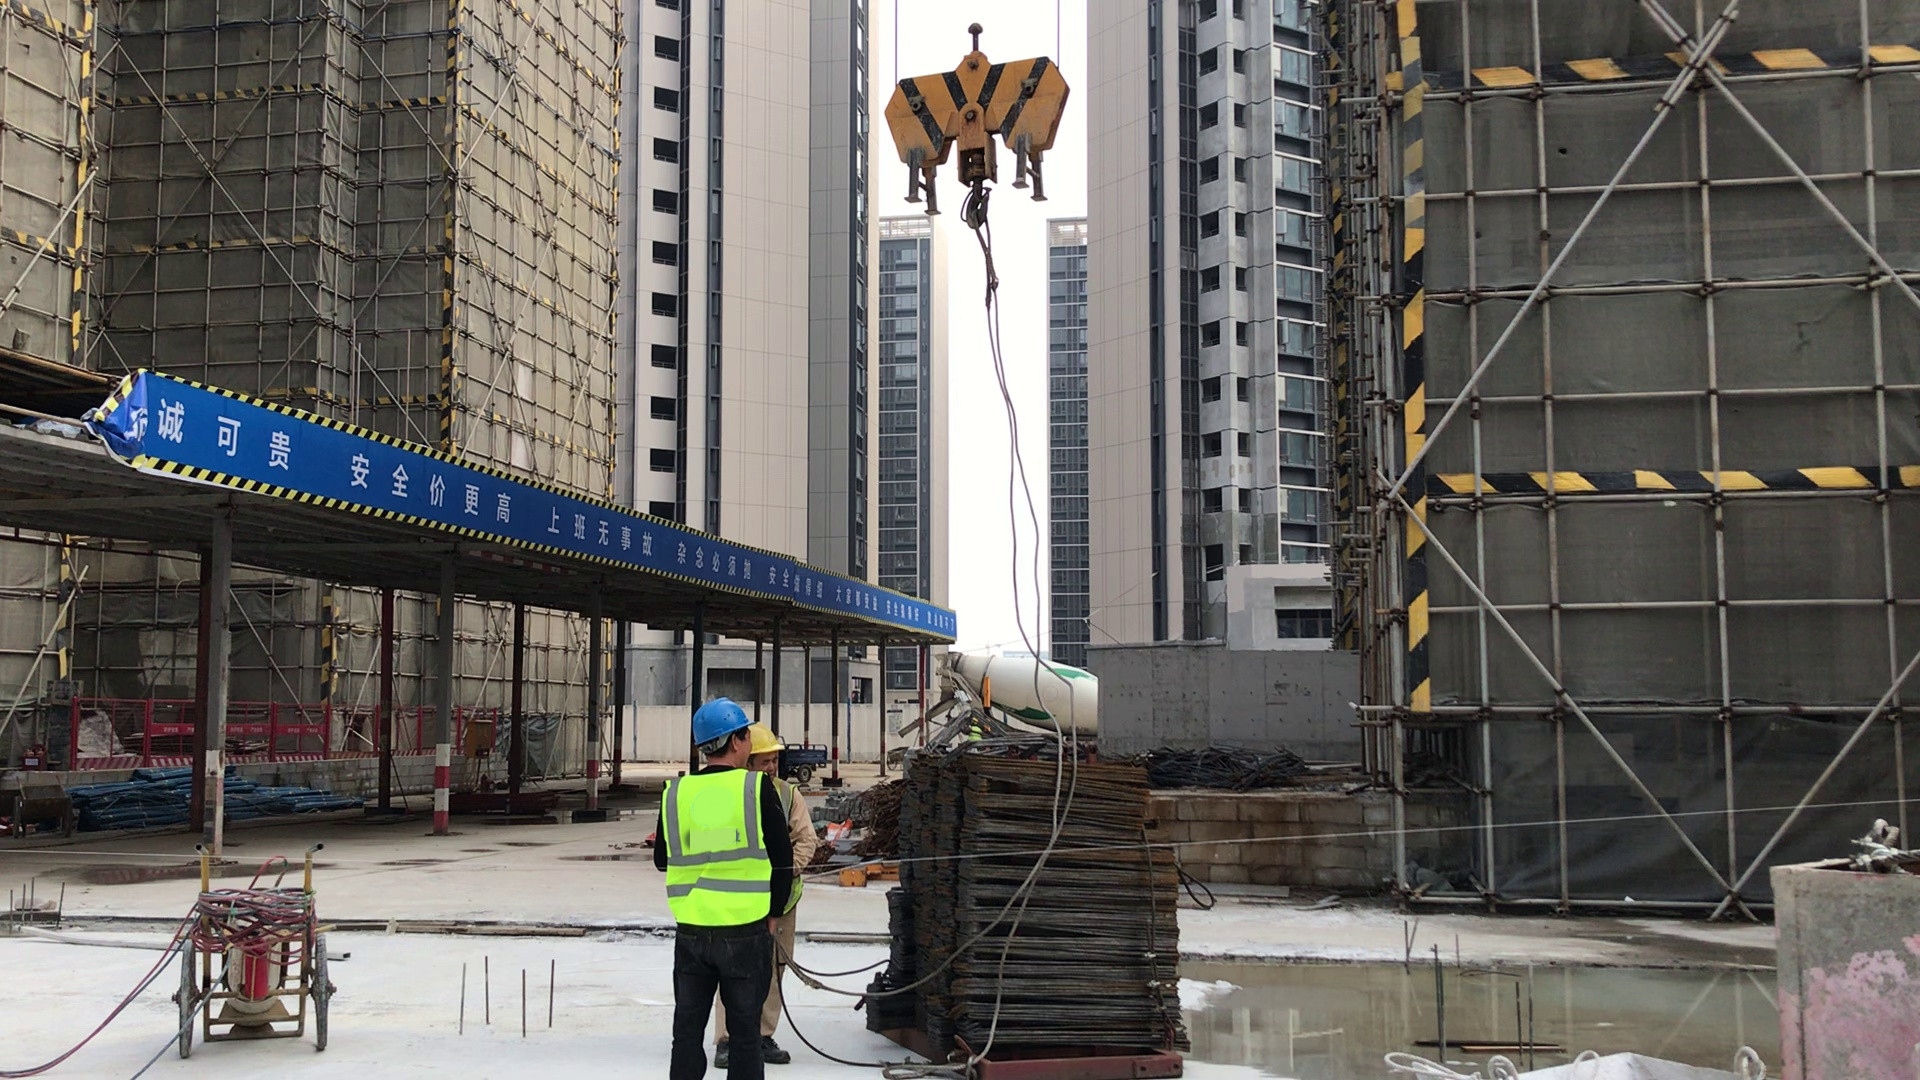fence: (48, 695, 511, 776)
handcart: (150, 831, 380, 1064)
helmet: (677, 683, 754, 768), (747, 711, 793, 768)
hook: (872, 15, 1103, 261)
hopper: (1756, 784, 1917, 1080)
person: (642, 684, 775, 1080), (750, 719, 842, 1072)
slogan: (85, 361, 972, 672)
vest: (659, 761, 793, 941)
